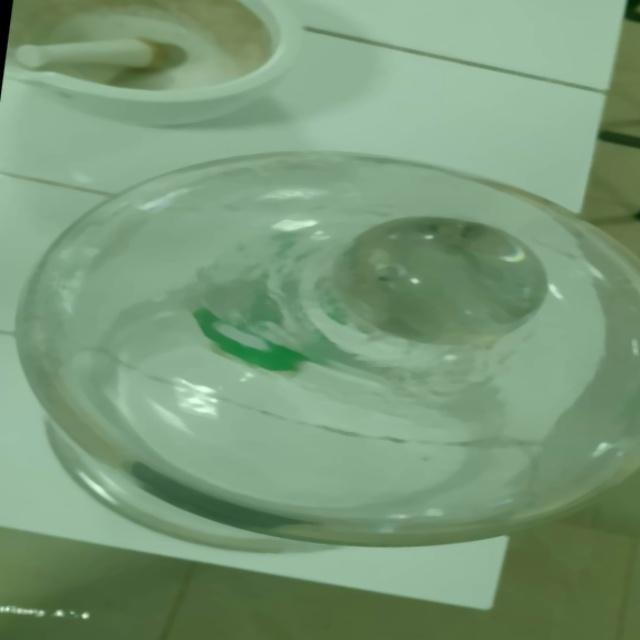Gas Bottle: (0, 130, 640, 598)
